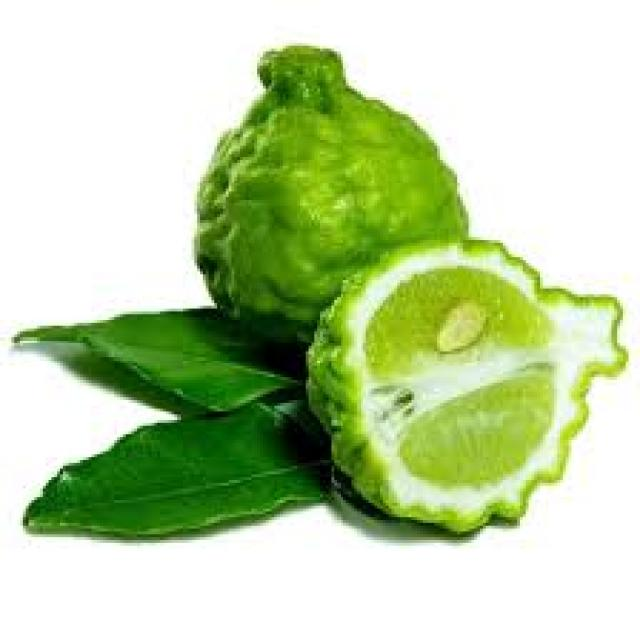Chuc: (303, 235, 628, 534), (188, 40, 468, 343)
